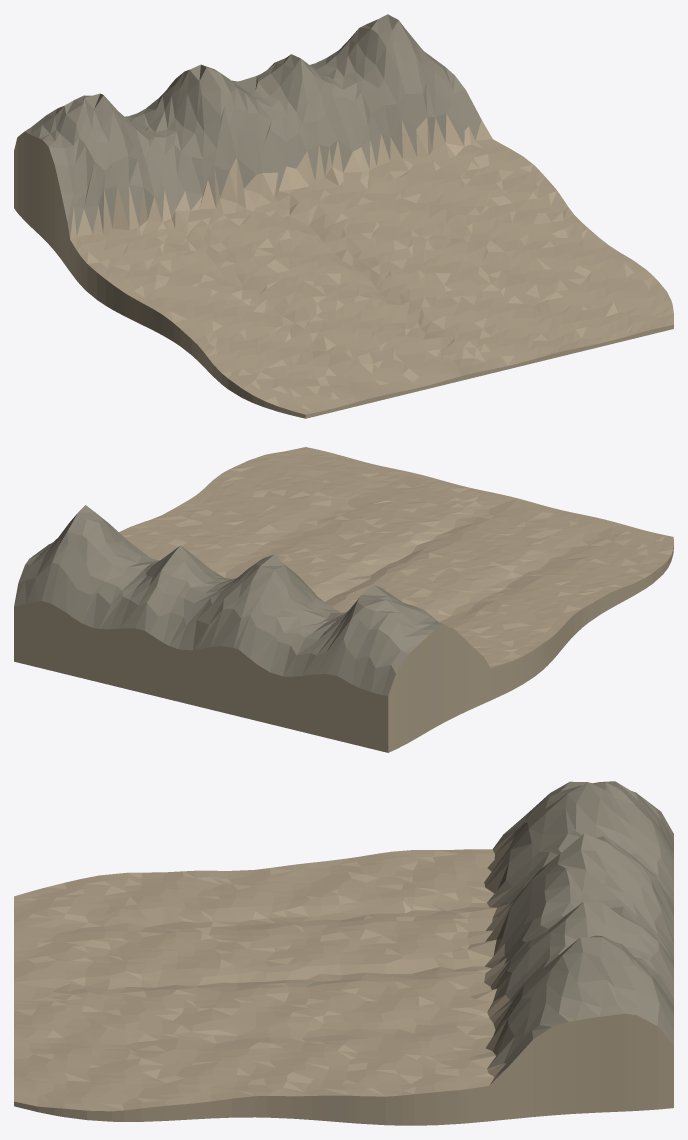
The picture shows the model from 3 angles, top to bottom: view 1: azimuth 30°, elevation 25°; view 2: azimuth 150°, elevation 25°; view 3: azimuth 270°, elevation 25°; orthographic projection. The views are drawn at different scales.
Visible parts, largest first — view 1: continuous_shallow_bedrock_erosional_apron_and_abrupt_recedi; view 2: continuous_shallow_bedrock_erosional_apron_and_abrupt_recedi; view 3: continuous_shallow_bedrock_erosional_apron_and_abrupt_recedi.
Part boxes in pixels (<box>): continuous_shallow_bedrock_erosional_apron_and_abrupt_recedi: <box>14,14,673,418</box>; continuous_shallow_bedrock_erosional_apron_and_abrupt_recedi: <box>14,447,673,752</box>; continuous_shallow_bedrock_erosional_apron_and_abrupt_recedi: <box>14,781,673,1125</box>.
Bounding box in the file's own units: 228 × 66.75 × 260.
